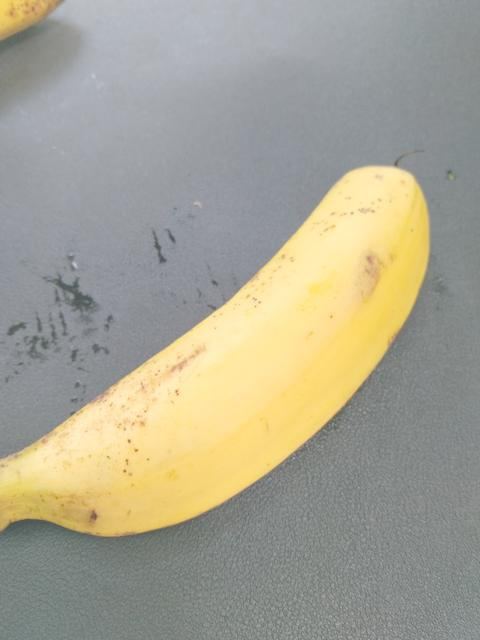ripe: (17, 180, 431, 573)
